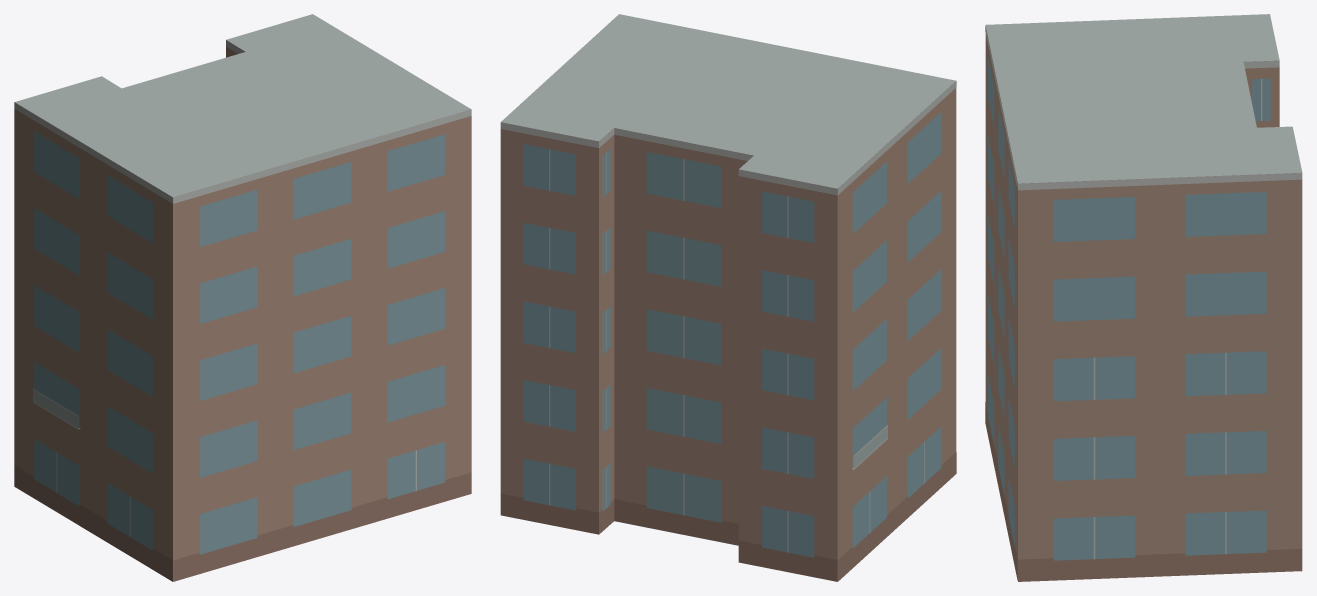
The model's file is survey-upis-32616341.glb.
The picture shows the model from 3 angles, left to right: view 1: azimuth 30°, elevation 25°; view 2: azimuth 150°, elevation 25°; view 3: azimuth 270°, elevation 25°; orthographic projection. The views are drawn at different scales.
Visible parts, largest first — view 1: survey-upis-32616341.tmp; view 2: survey-upis-32616341.tmp; view 3: survey-upis-32616341.tmp.
Boxes of the visible parts, <box> form: survey-upis-32616341.tmp: <box>14,14,471,581</box>; survey-upis-32616341.tmp: <box>500,14,956,581</box>; survey-upis-32616341.tmp: <box>985,14,1302,581</box>.
Size of the model in its own units: 13.07 by 14.3 by 10.32.
